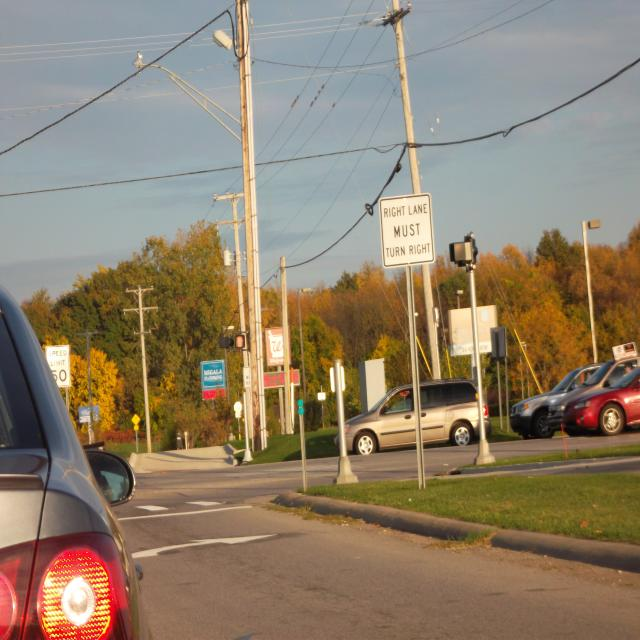regulatory: (378, 193, 438, 268), (43, 344, 71, 387)
warning: (131, 413, 140, 425)
